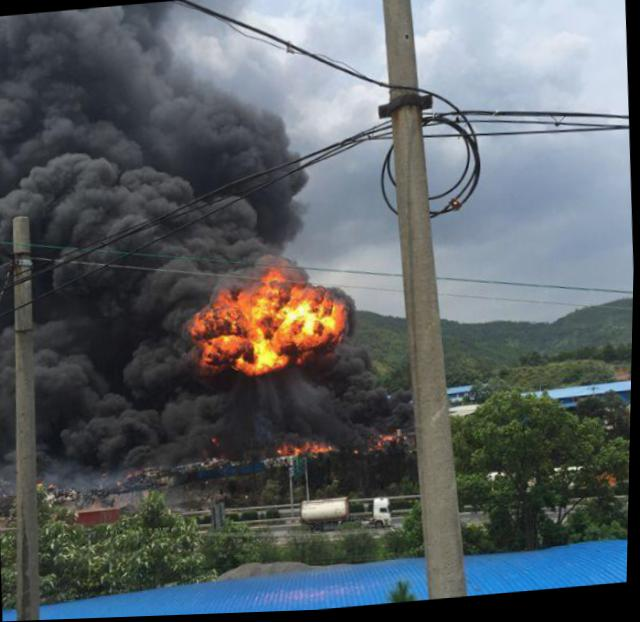fire: (193, 283, 346, 371)
